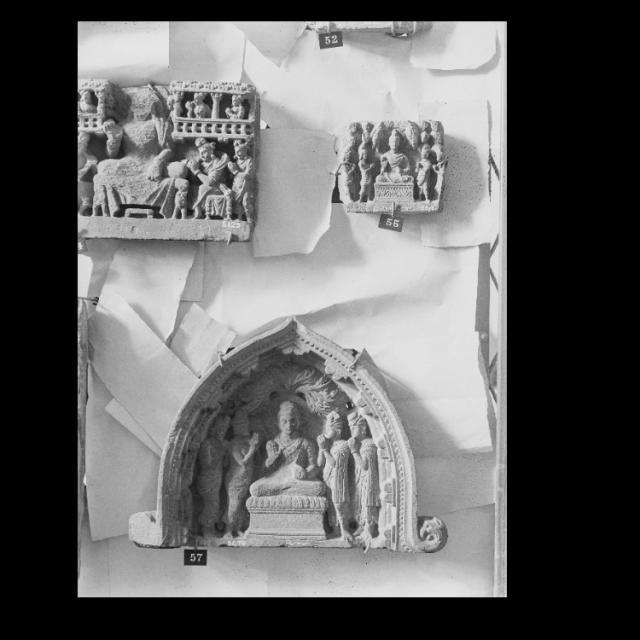buddha-sitting: (94, 83, 192, 229), (255, 394, 332, 540), (367, 128, 420, 205)
